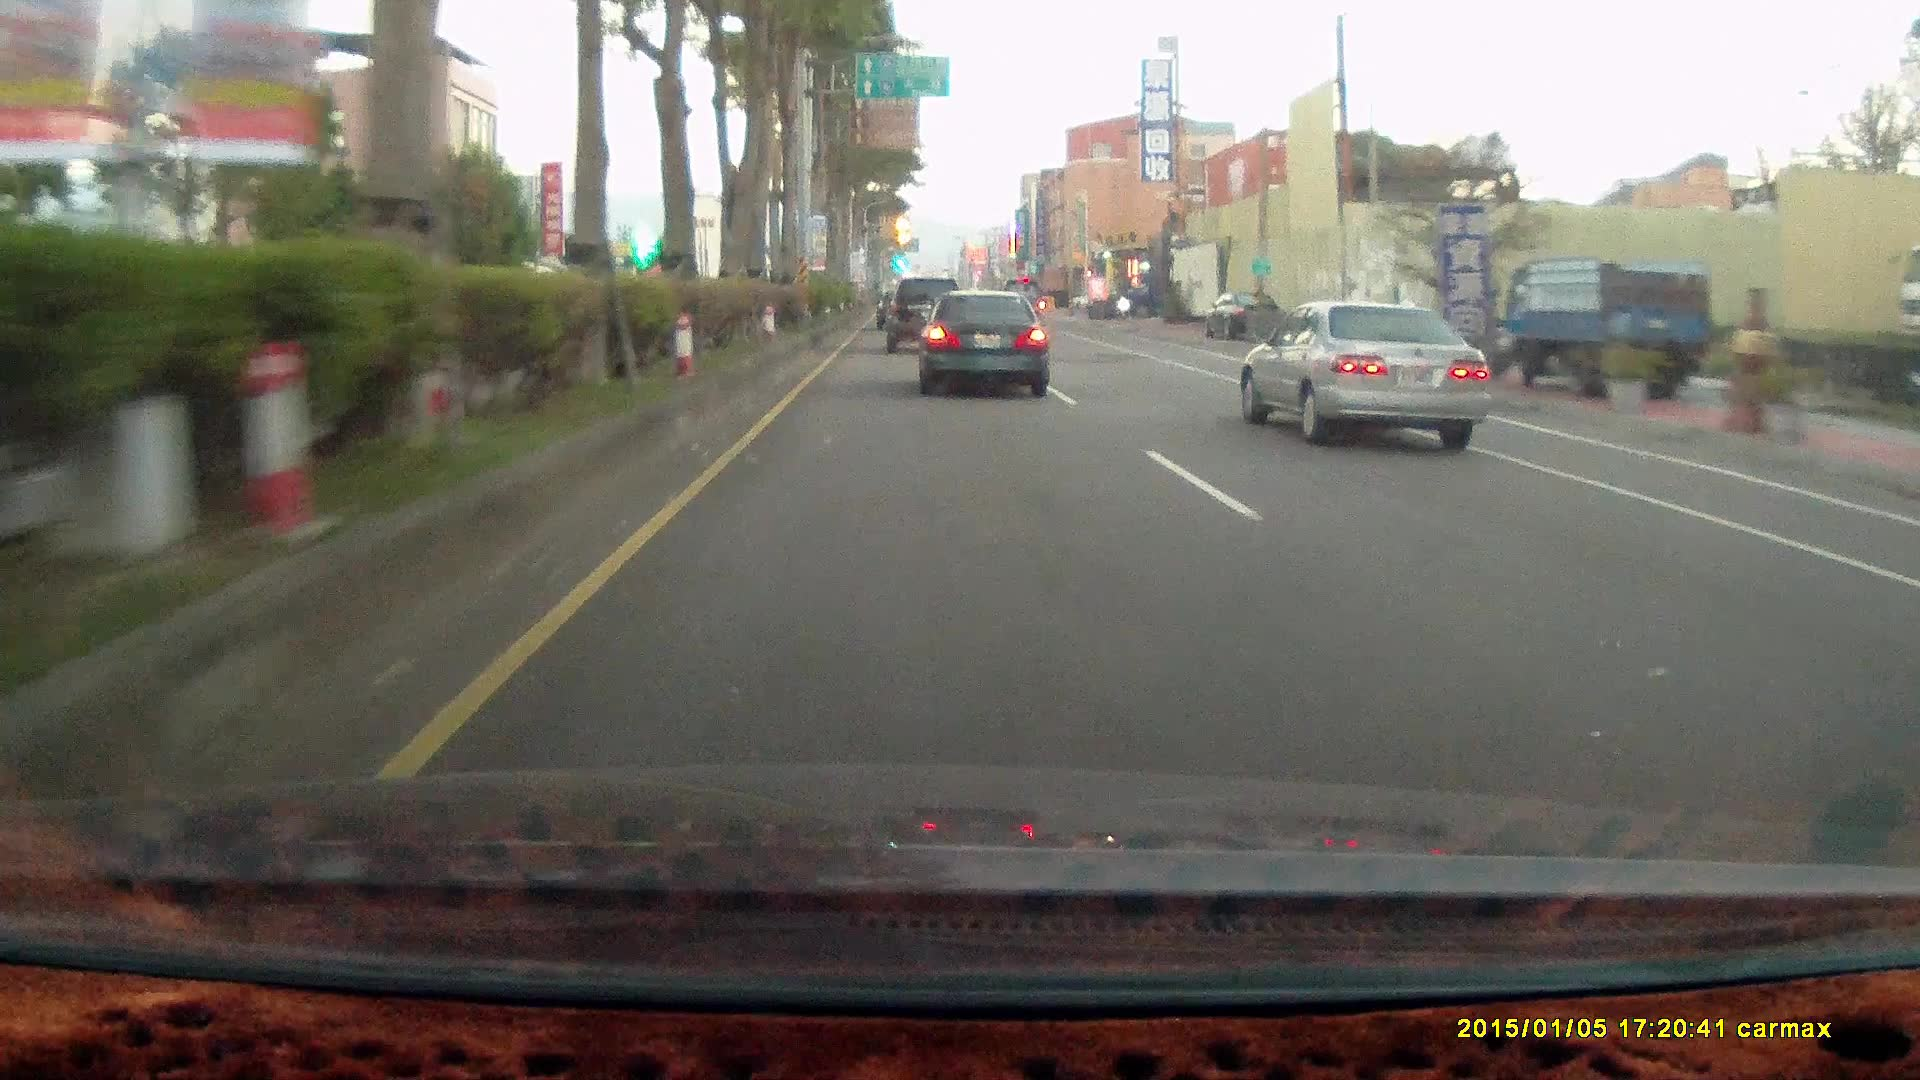vehicle: (1240, 301, 1502, 454), (1240, 301, 1491, 454), (1495, 255, 1713, 405), (1502, 255, 1713, 400), (914, 287, 1048, 394), (919, 291, 1052, 398), (885, 276, 965, 353), (1205, 293, 1288, 344), (1116, 273, 1189, 318)
